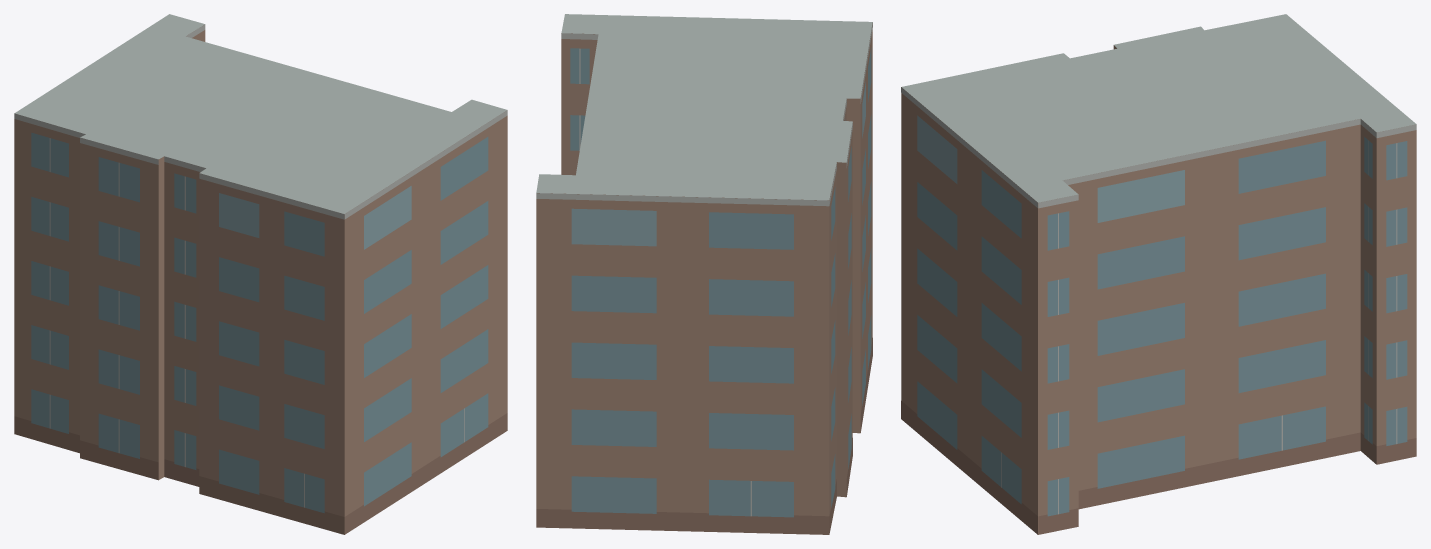
Rendered from survey-upis-32925794.glb.
3 views of the same model, side by side, from view 1: azimuth 30°, elevation 25°; view 2: azimuth 150°, elevation 25°; view 3: azimuth 270°, elevation 25° (orthographic). The views are drawn at different scales.
Parts seen in each view (by area): view 1: survey-upis-32925794.tmp; view 2: survey-upis-32925794.tmp; view 3: survey-upis-32925794.tmp.
Part boxes in pixels (box(x1,y1,x2,y2)): survey-upis-32925794.tmp: box(14, 14, 507, 534); survey-upis-32925794.tmp: box(536, 14, 872, 534); survey-upis-32925794.tmp: box(901, 14, 1416, 534).
Bounding box in the file's own units: 17.19 × 14.1 × 19.84.
